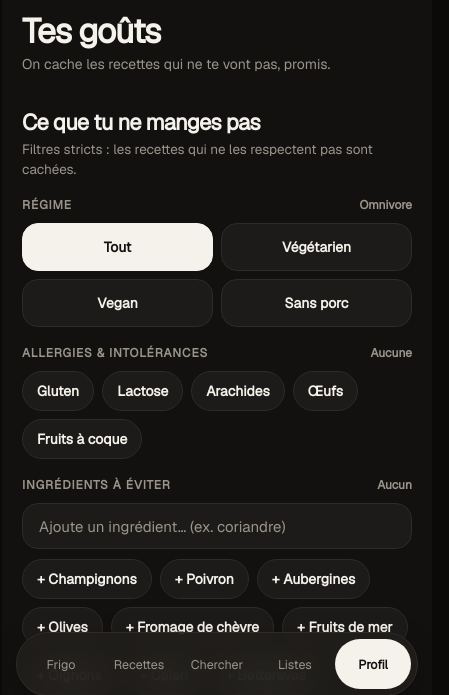
Test: Mijote › hides recipes that break the diet
Click the button "Végétarien" at (316, 247), box left=221, top=223, right=412, bottom=271
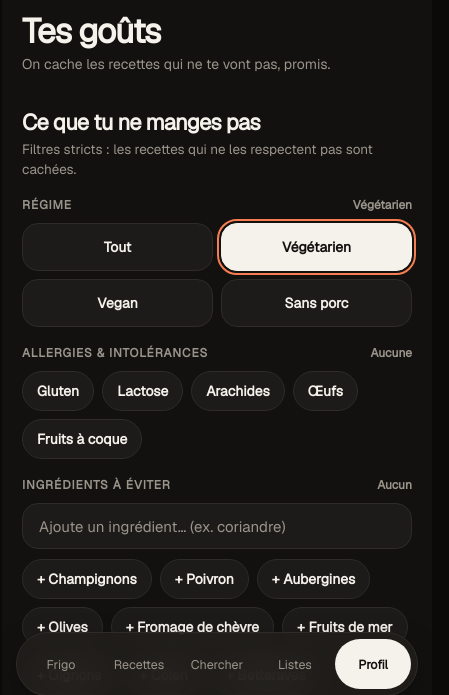
Click the link "Chercher" at (217, 664), box left=191, top=656, right=243, bottom=672
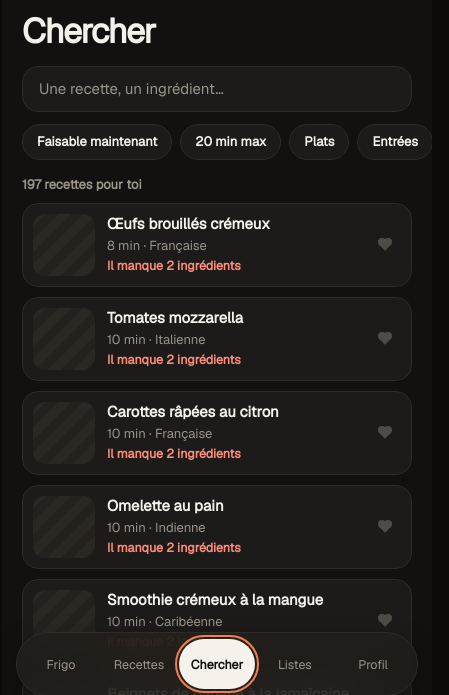
Type "carbonara" into the field at (217, 89), box left=22, top=66, right=412, bottom=112
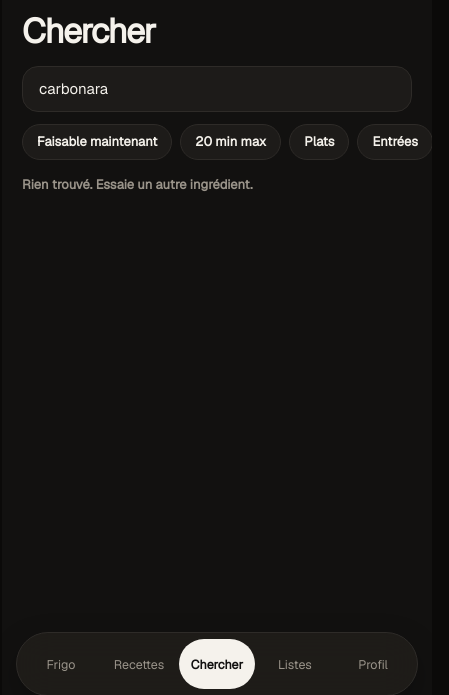
Expected: the text "Rien trouvé. Essaie un autre ingrédient." is shown, left=22, top=176, right=252, bottom=193
